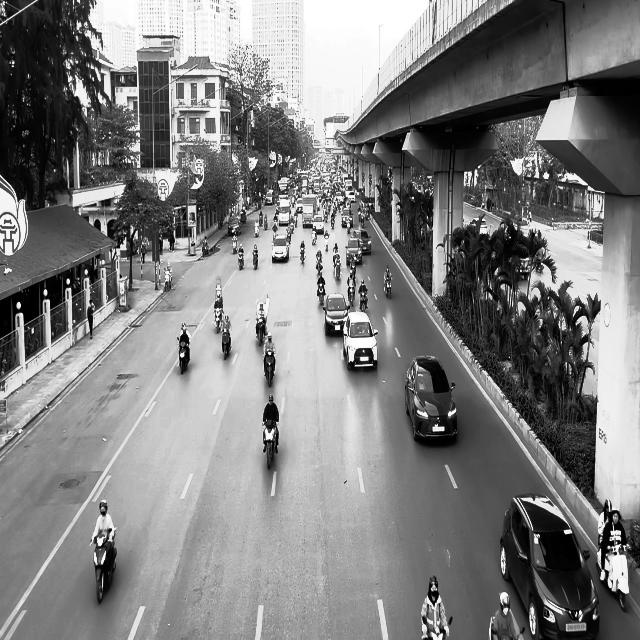car: (499, 492, 600, 640), (405, 354, 458, 442), (343, 310, 378, 370), (322, 293, 349, 336), (271, 234, 289, 263)
motorbike: (602, 535, 631, 612), (90, 527, 117, 604), (262, 418, 278, 469), (422, 615, 452, 640), (177, 337, 190, 374), (263, 350, 275, 386), (222, 328, 232, 360), (256, 317, 266, 346), (316, 278, 326, 304), (213, 308, 223, 333), (358, 289, 368, 311), (347, 280, 355, 306), (384, 274, 392, 299), (164, 269, 172, 291), (237, 251, 244, 270), (252, 250, 258, 270), (300, 244, 305, 264)
